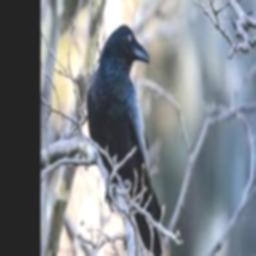Crow: (86, 24, 164, 256)
